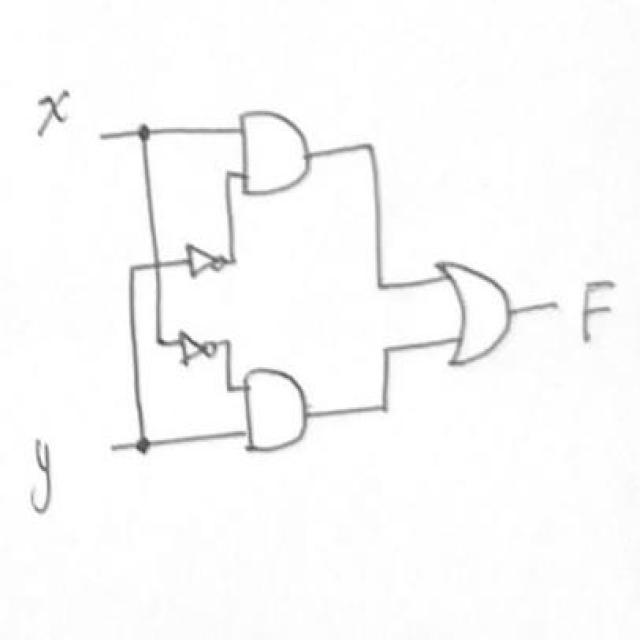AND: (235, 364, 329, 463), (234, 106, 316, 208)
NOT: (183, 235, 227, 292)
OR: (424, 246, 531, 383)
